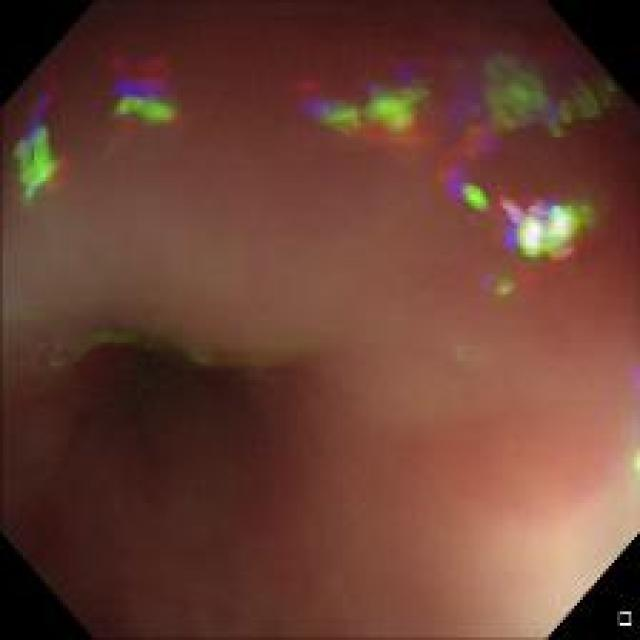color misalignment: (296, 44, 618, 298), (90, 48, 189, 141), (11, 59, 70, 194), (48, 322, 178, 376), (178, 331, 300, 378)
contrast: (35, 305, 306, 530)
